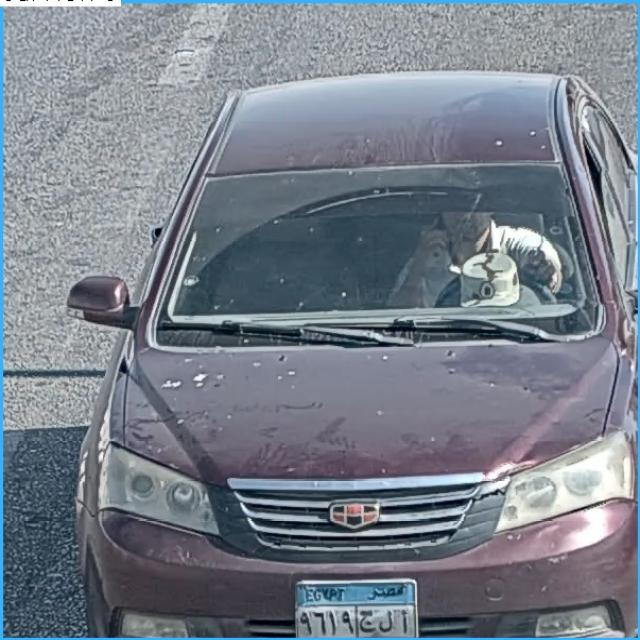windshield: (162, 163, 578, 328)
